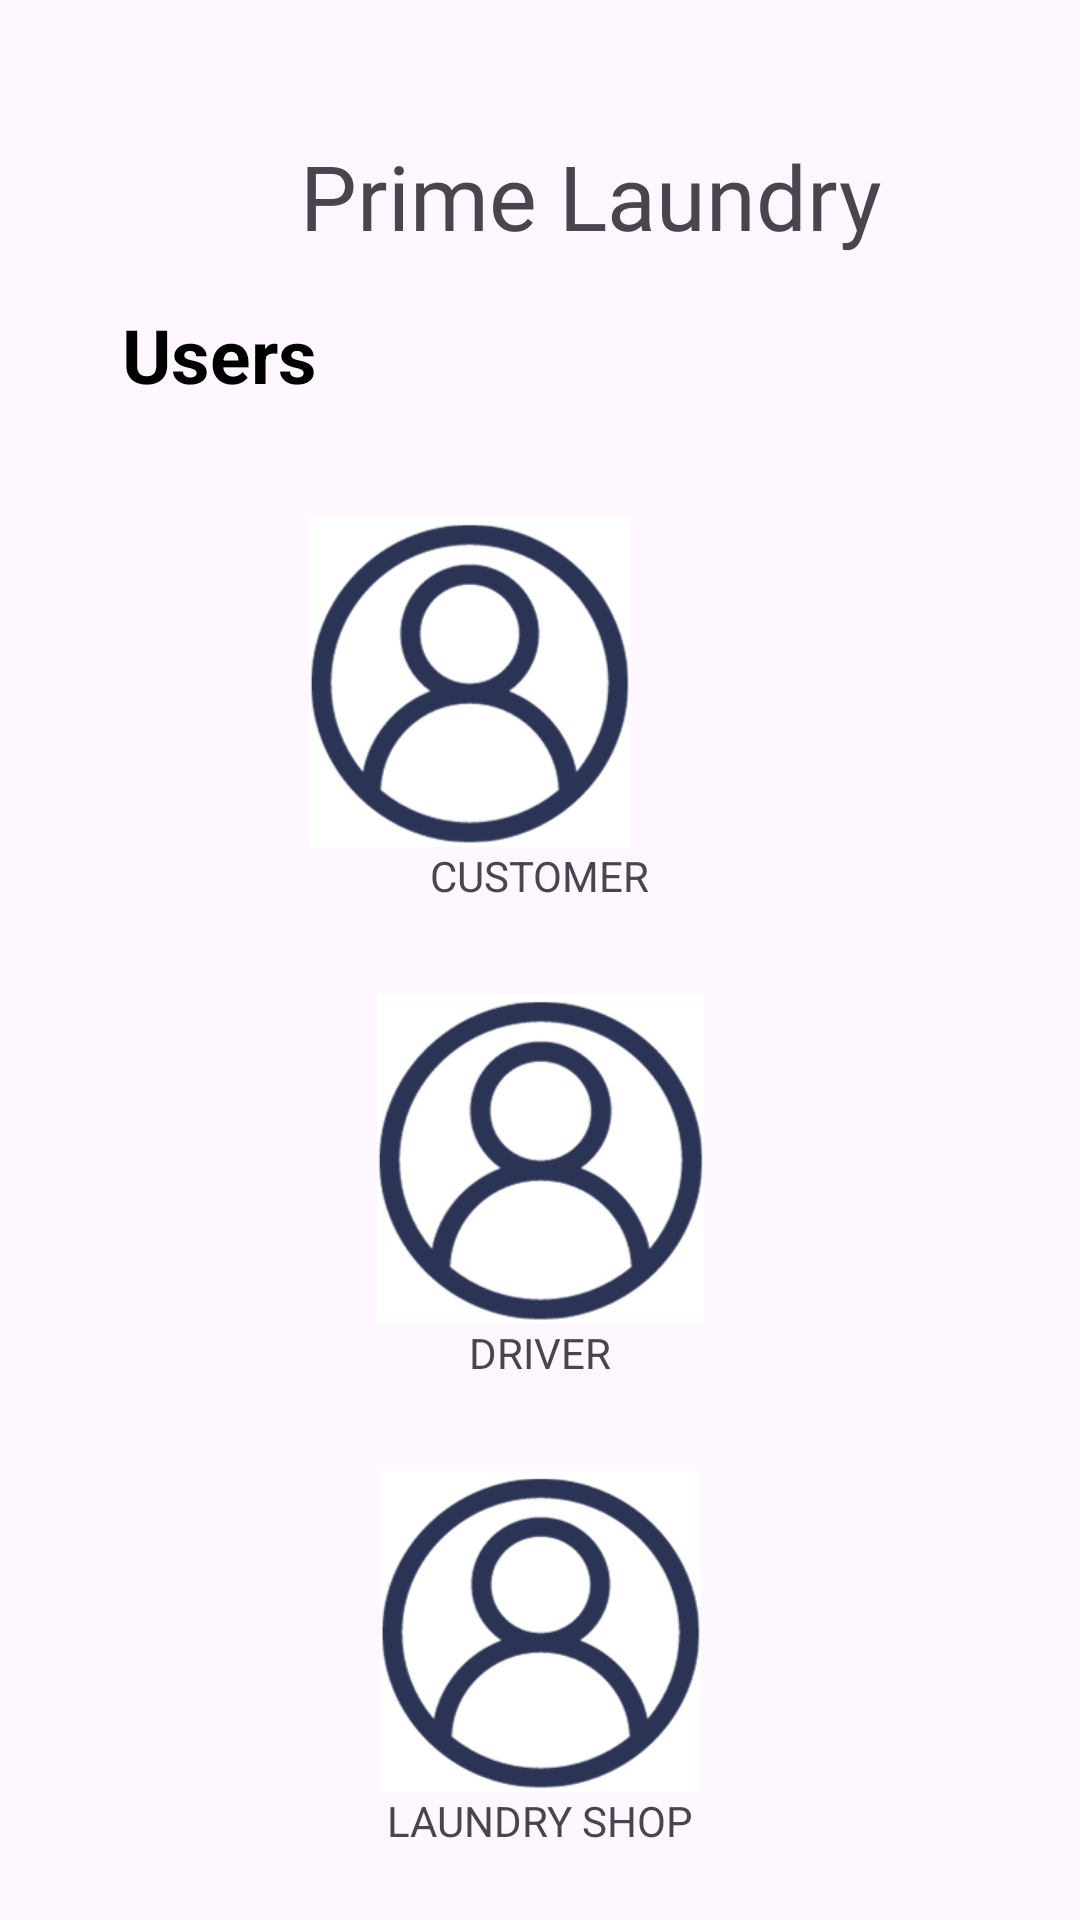

Where icons sit on this 1080px x 1920px app screen, as (x1, y1, x2, y2):
account: (311, 525, 629, 843), (379, 1002, 703, 1320), (382, 1478, 700, 1788)
